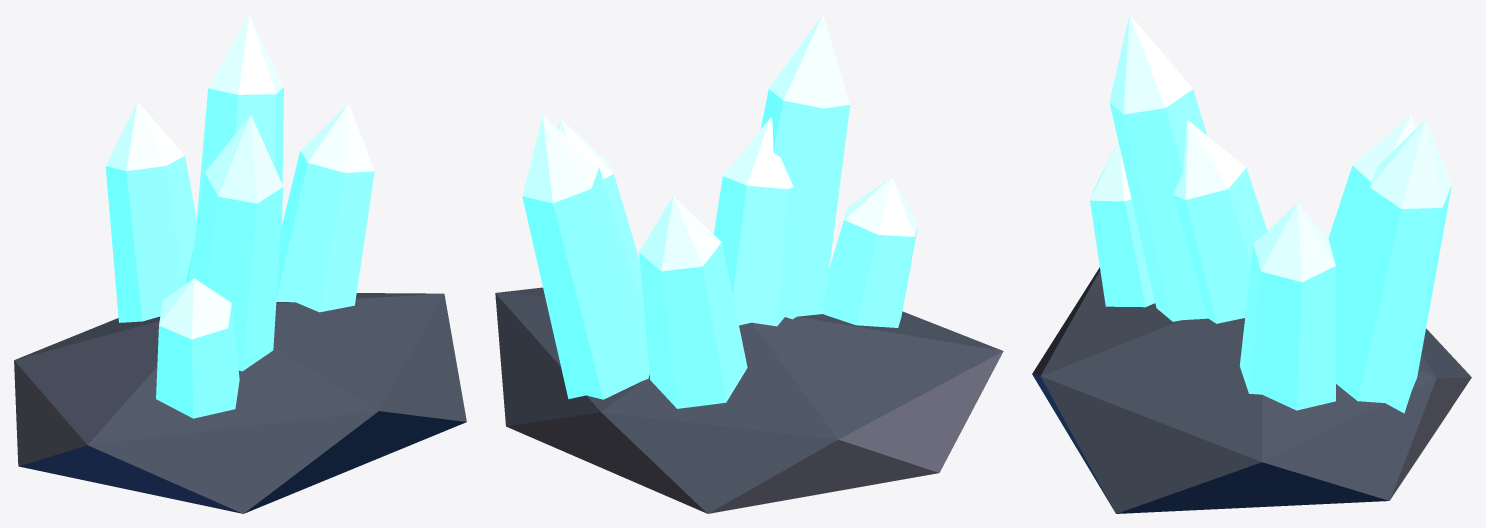
File: Crystal_Cluster_A.glb
3 views of the same model, side by side, from view 1: azimuth 30°, elevation 25°; view 2: azimuth 150°, elevation 25°; view 3: azimuth 270°, elevation 25° (orthographic). The views are drawn at different scales.
Visible parts, largest first — view 1: Crystal_Cluster_A; view 2: Crystal_Cluster_A; view 3: Crystal_Cluster_A.
Part boxes in pixels (x1,y1,x2,y2): Crystal_Cluster_A: (14, 14, 466, 513); Crystal_Cluster_A: (495, 14, 1003, 513); Crystal_Cluster_A: (1032, 14, 1471, 513).
Size of the model in its own units: 1.96 by 1.56 by 1.6.
1 material, 1 textured.
